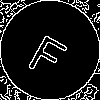F: (25, 25, 74, 80)
